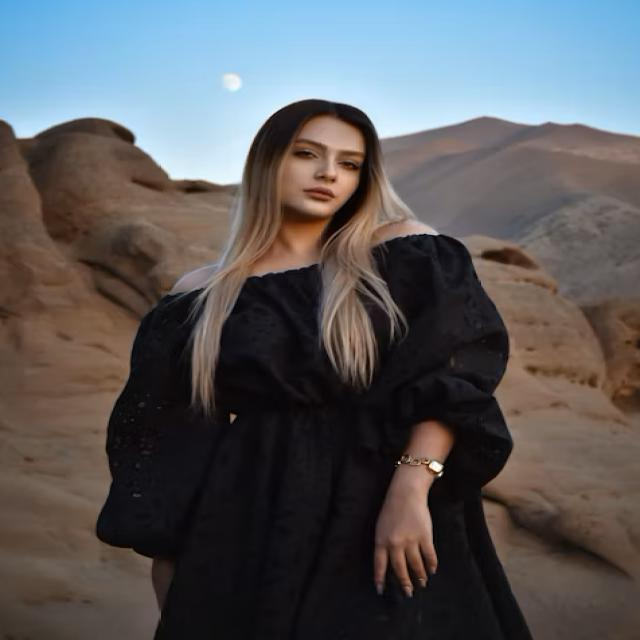Edited images: (98, 83, 554, 640)
